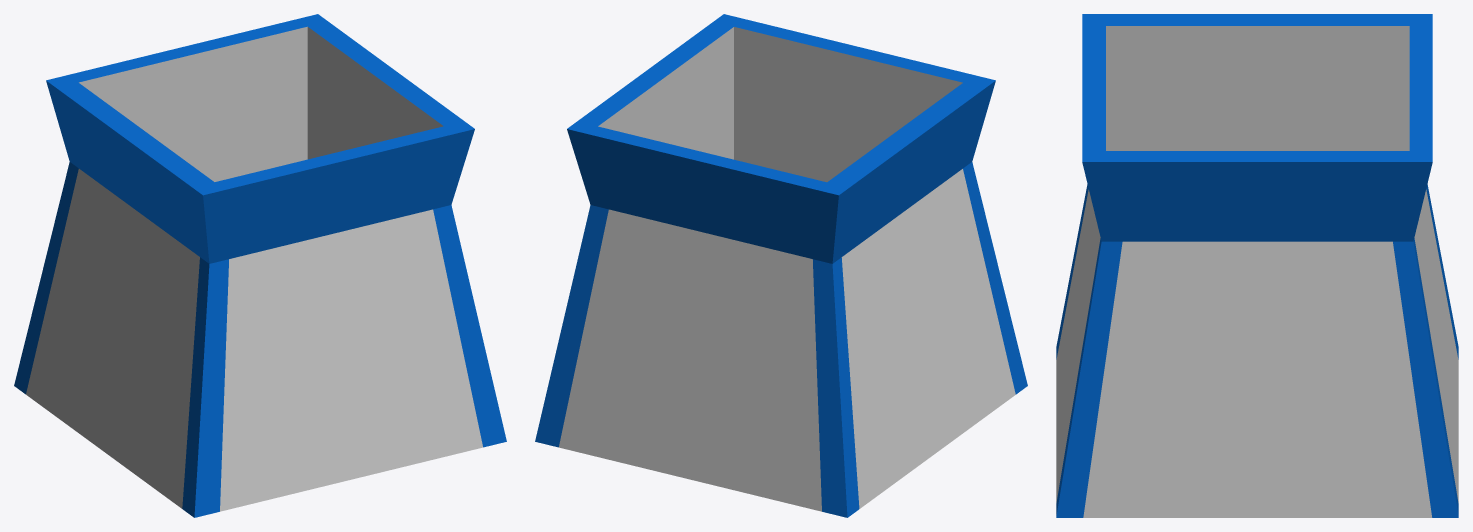
File: basket_uv.fbx
3 views of the same model, side by side, from view 1: azimuth 30°, elevation 25°; view 2: azimuth 150°, elevation 25°; view 3: azimuth 270°, elevation 25° (orthographic). The views are drawn at different scales.
Visible parts, largest first — view 1: basket; view 2: basket; view 3: basket.
Part boxes in pixels (bbox=[...]): basket: bbox=[14, 14, 506, 517]; basket: bbox=[535, 14, 1027, 517]; basket: bbox=[1056, 14, 1458, 517].
Bounding box in the file's own units: 178 × 168 × 178.
